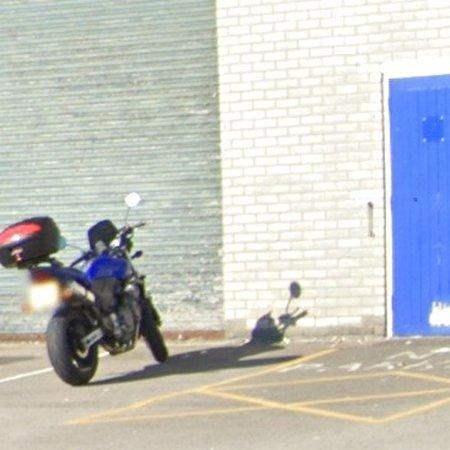motorcycles: (0, 193, 169, 387)
